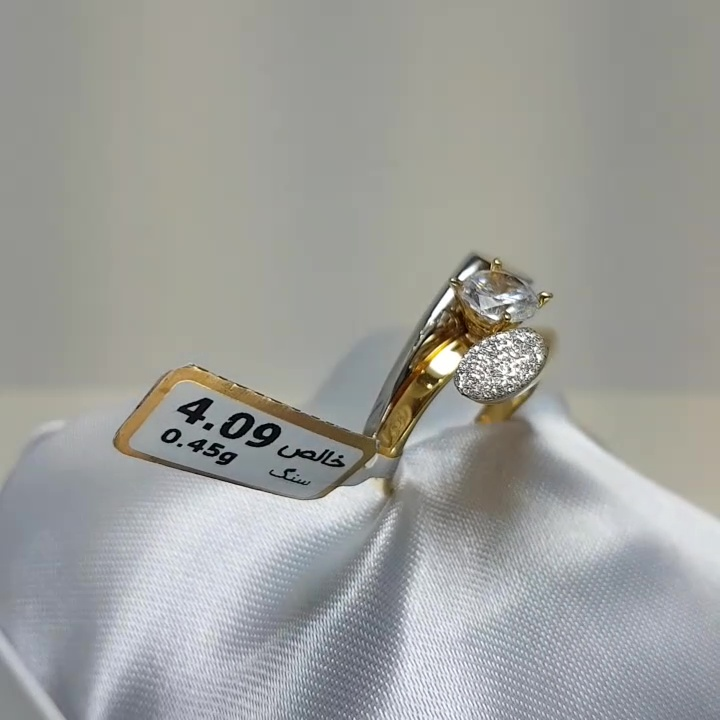Ring 7: (346, 228, 610, 499)
